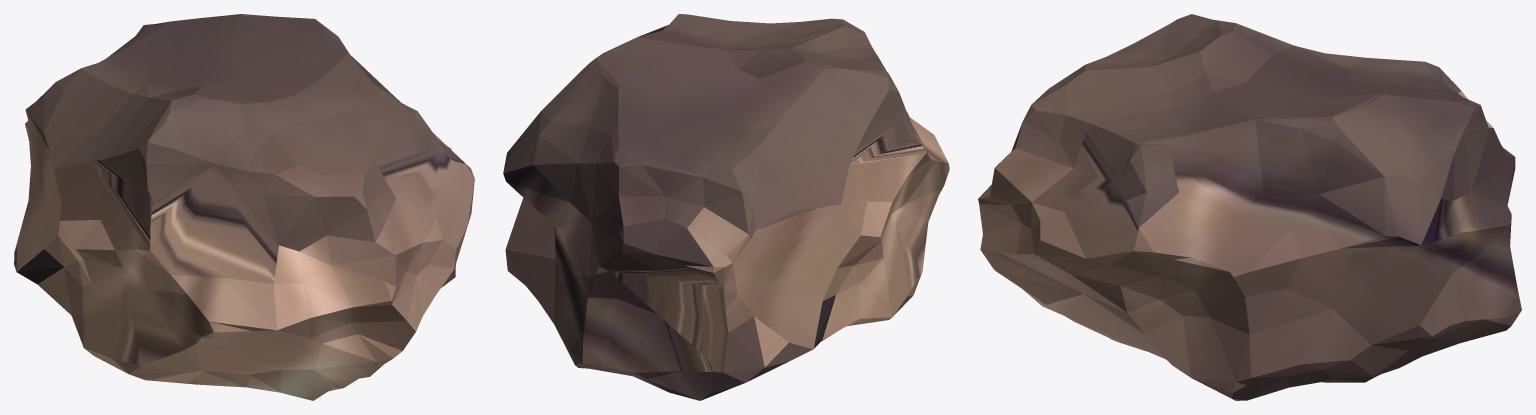
File: rocks (2).fbx
The picture shows the model from 3 angles, left to right: view 1: azimuth 30°, elevation 25°; view 2: azimuth 150°, elevation 25°; view 3: azimuth 270°, elevation 25°; orthographic projection. The views are drawn at different scales.
Parts seen in each view (by area): view 1: Cube.002; view 2: Cube.002; view 3: Cube.002.
Boxes of the visible parts, x1,y1,x2,y2 form: Cube.002: (14, 14, 474, 400); Cube.002: (503, 14, 949, 400); Cube.002: (978, 14, 1521, 400).
Size of the model in its own units: 376 by 287 by 486.
